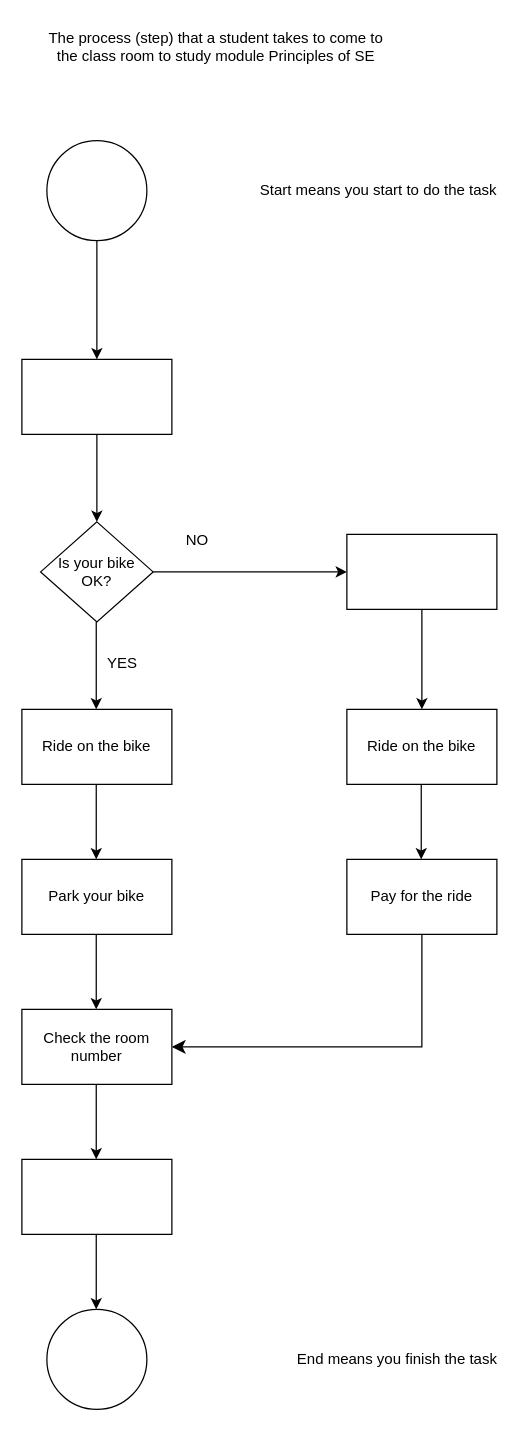
The diagram is 531 pixels wide and 1431 high, and some of its shapes have lost their labels. Here are the shapes that lost their labels. From the top down, the centre of each, then its label:
At (96,396): "Get your bike".
At (421,571): "Call a Grab bike".
At (96,1196): "Come in".
